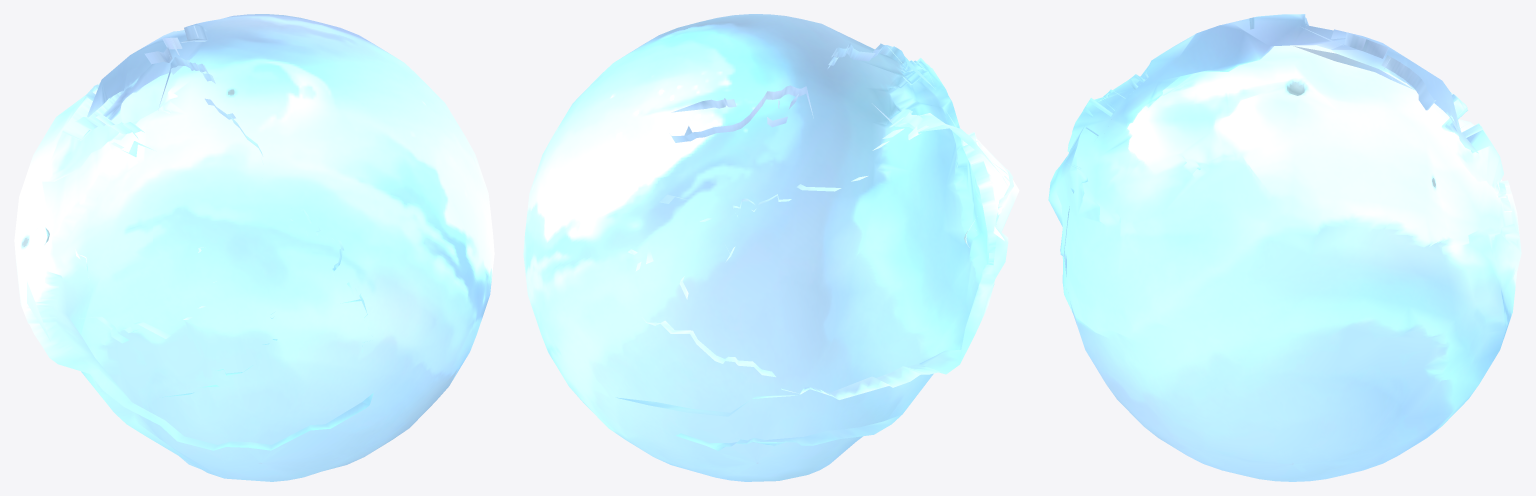
3 renders of one model, left to right at view 1: azimuth 30°, elevation 25°; view 2: azimuth 150°, elevation 25°; view 3: azimuth 270°, elevation 25°, orthographic. The views are drawn at different scales.
Parts seen in each view (by area): view 1: background_mesh; view 2: background_mesh; view 3: background_mesh.
Boxes of the visible parts, x1=… form: background_mesh: x1=14, y1=14, x2=494, y2=481; background_mesh: x1=523, y1=14, x2=1019, y2=481; background_mesh: x1=1048, y1=14, x2=1521, y2=481.
Size of the model in its own units: 33.29 by 31.24 by 32.01.
